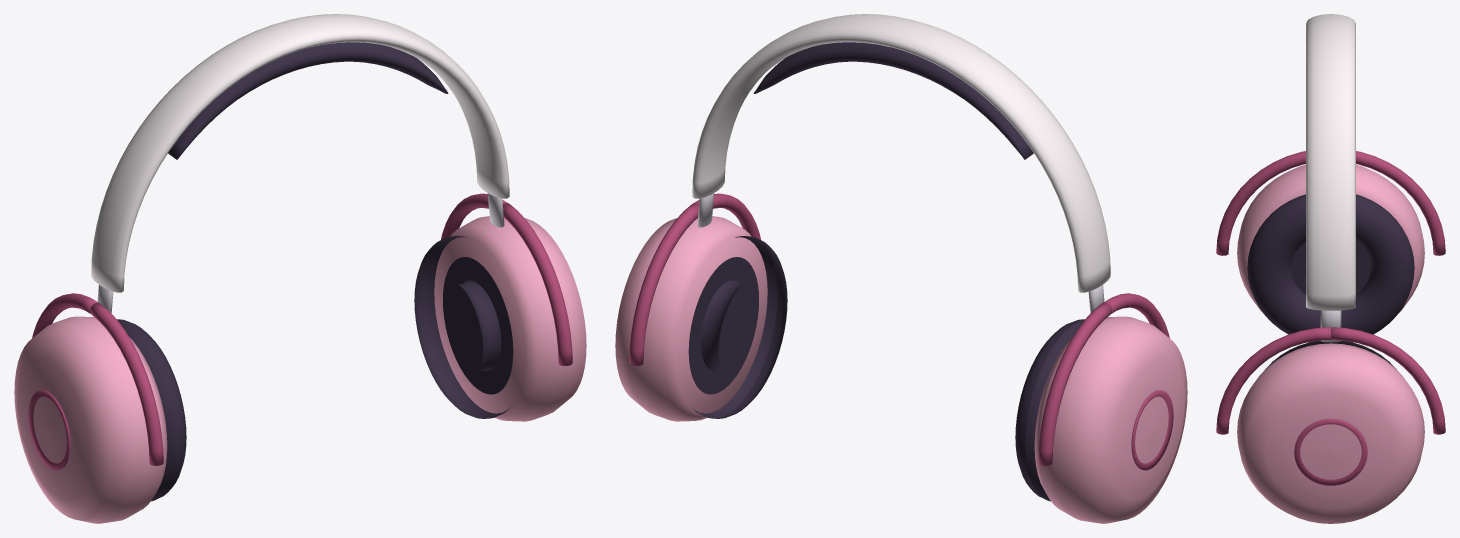
Rendered from headphones.glb.
3 renders of one model, left to right at view 1: azimuth 30°, elevation 25°; view 2: azimuth 150°, elevation 25°; view 3: azimuth 270°, elevation 25°, orthographic. The views are drawn at different scales.
Visible parts, largest first — view 1: shell, band, pad, accent, metal; view 2: shell, band, pad, accent, metal; view 3: shell, band, pad, accent, metal.
Part boxes in pixels (left/top/right/bottom): shell: left=14, top=216, right=586, bottom=523; band: left=91, top=14, right=509, bottom=292; pad: left=117, top=42, right=513, bottom=501; accent: left=28, top=193, right=572, bottom=470; metal: left=97, top=193, right=504, bottom=312; shell: left=615, top=216, right=1187, bottom=523; band: left=692, top=14, right=1110, bottom=292; pad: left=688, top=42, right=1084, bottom=501; accent: left=629, top=193, right=1173, bottom=470; metal: left=697, top=193, right=1104, bottom=312; shell: left=1237, top=164, right=1424, bottom=523; band: left=1306, top=14, right=1355, bottom=310; pad: left=1247, top=194, right=1414, bottom=369; accent: left=1216, top=151, right=1445, bottom=485; metal: left=1320, top=310, right=1341, bottom=342.
Bounding box in the file's own units: 0.1774 × 0.1482 × 0.0782.
